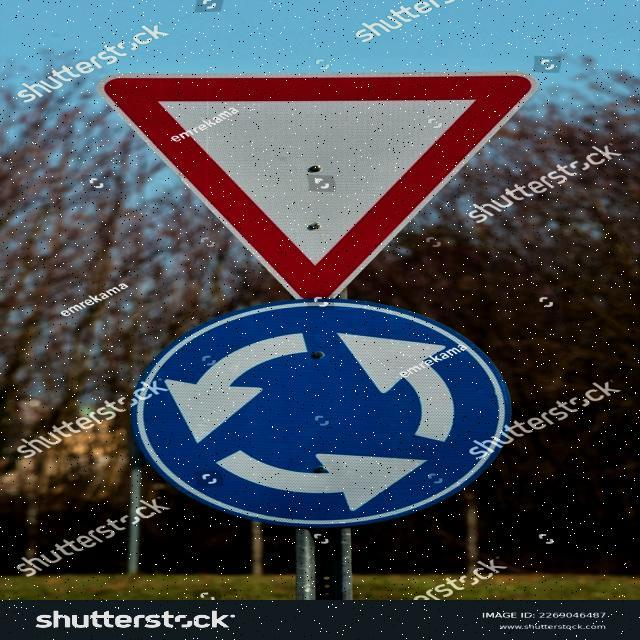Traffic sign: (95, 70, 540, 533)
